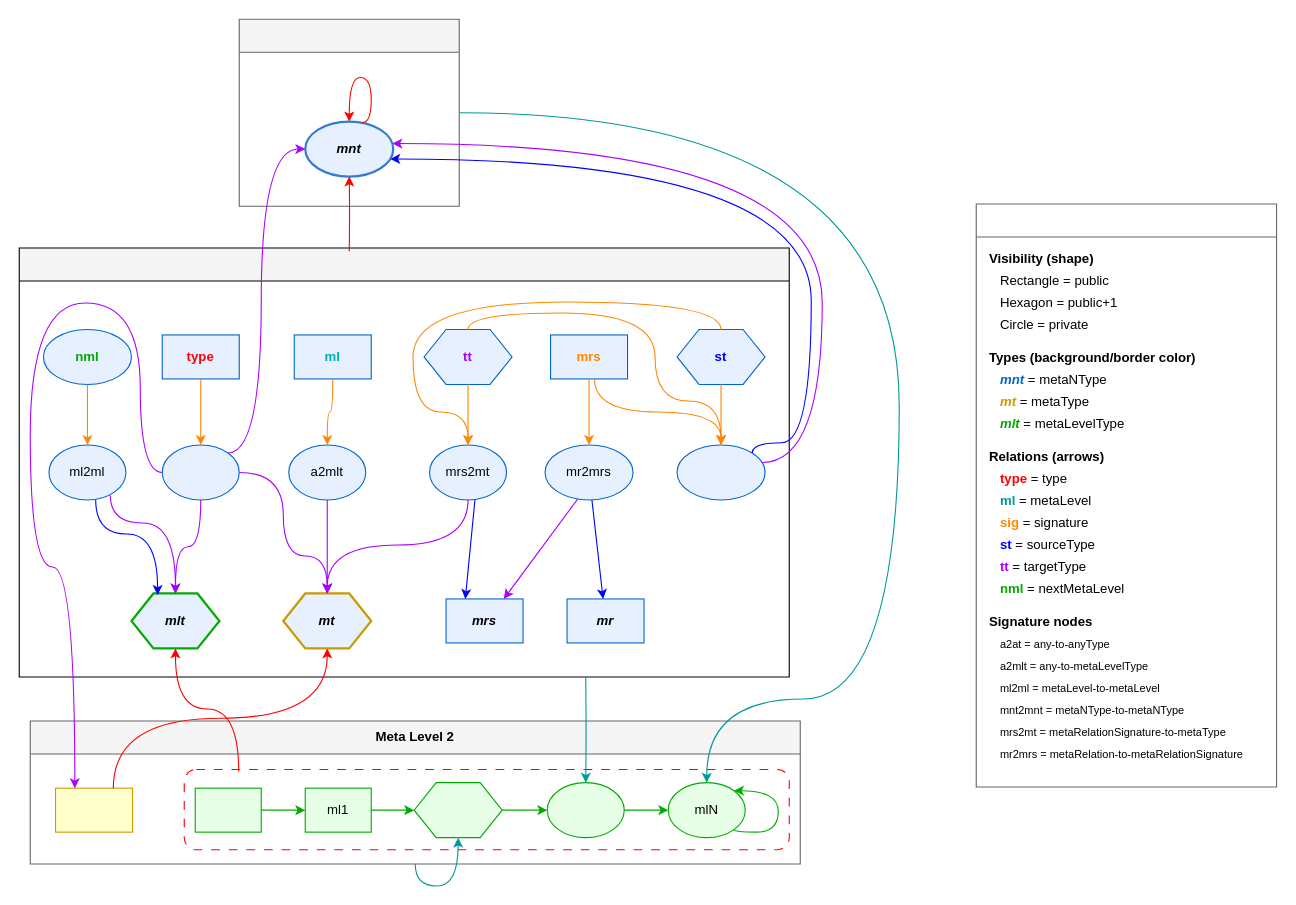
This 1296x905 diagram has some shape labels left out. The shapes that lost their labels are listed below. From the top down, each one's box as (x1, y1, x2, y2) in pixels, then its label:
(238, 18, 459, 206): Meta Level N
(161, 444, 239, 500): a2at
(18, 247, 789, 677): Meta Level 3
(676, 444, 765, 500): mnt2mnt
(975, 203, 1277, 787): Legend
(54, 787, 133, 832): class
(194, 787, 261, 832): ml0
(413, 782, 502, 838): ml2
(546, 782, 624, 838): ml3
